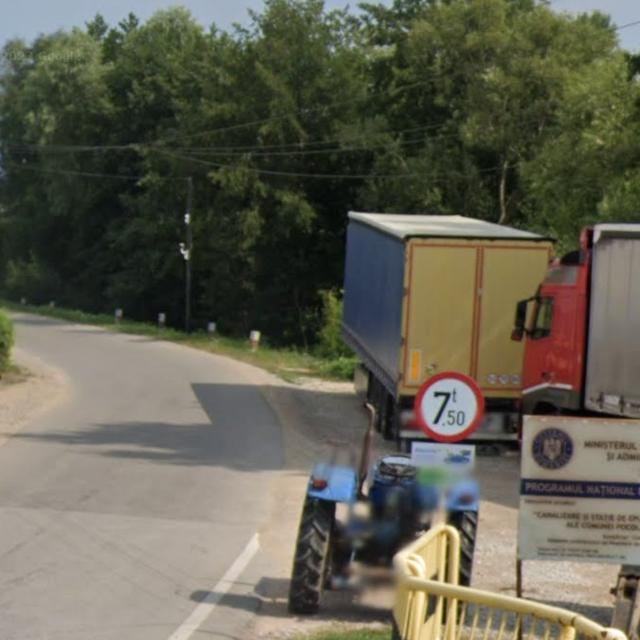forb_weight_over_7.5t: (416, 372, 484, 442)
